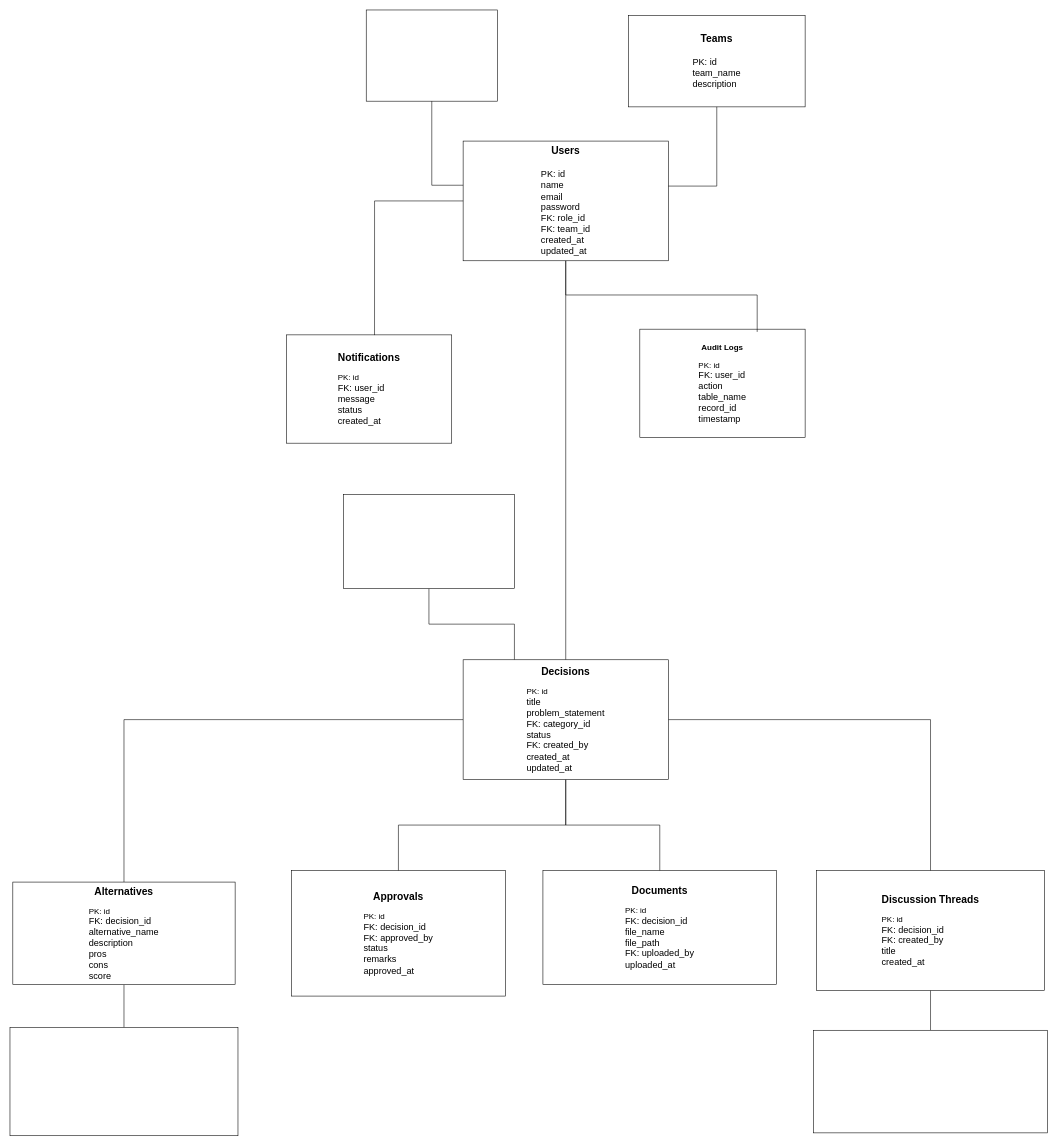
Some shapes in this 1057 by 1146 pixel diagram are drawn without their labels. The shapes that lost their labels are listed below. From the top down, each one's centre as x and y in pixels, then its label:
point 431,55: Roles PK: id role_name description
point 428,541: Decision Categories PK: id category_name description
point 123,1081: Risk Assessments PK: id FK: alternative_id risk_level impact mitigation_plan
point 930,1081: Comments PK: id FK: thread_id FK: user_id comment created_at
